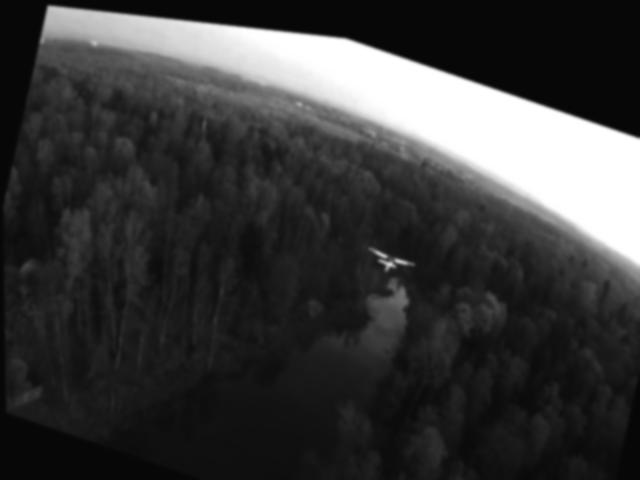hedef: (358, 227, 418, 278)
